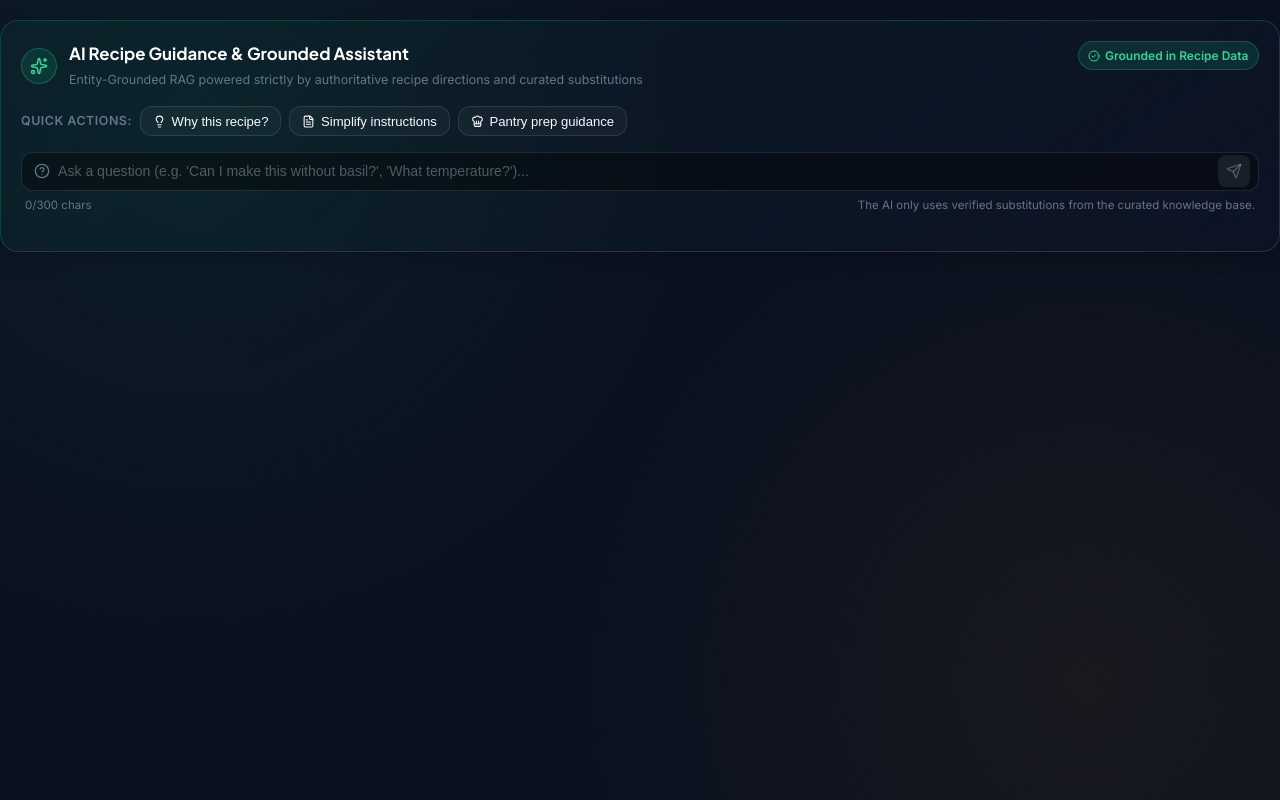
it: AiAssistantPanel Component › submits a custom question and displays answer
Replace the text in the field with placeholder "Ask a question" with "Can I substitute fresh basil?" at point(638, 171), box [58, 153, 1218, 190]
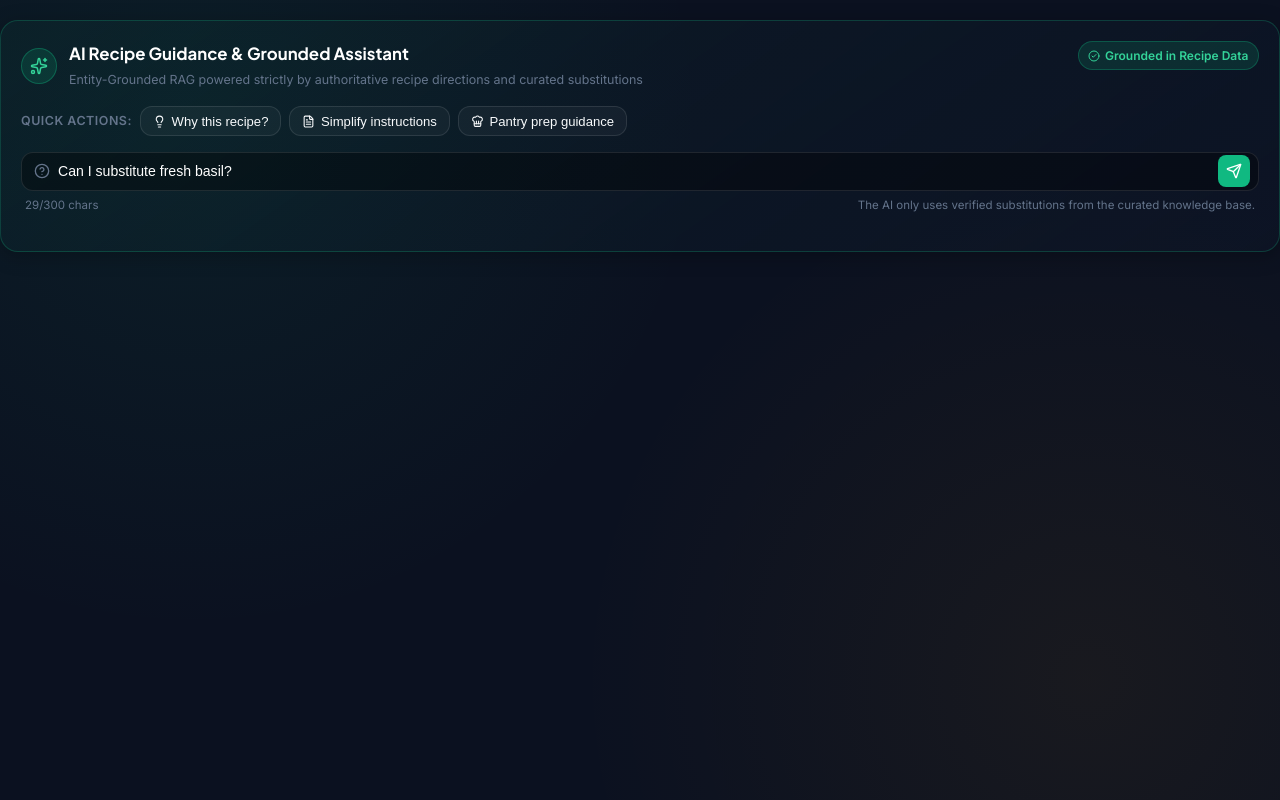
Click the button titled "Send question to AI Assistant" at point(1234, 171), box [1218, 155, 1250, 187]
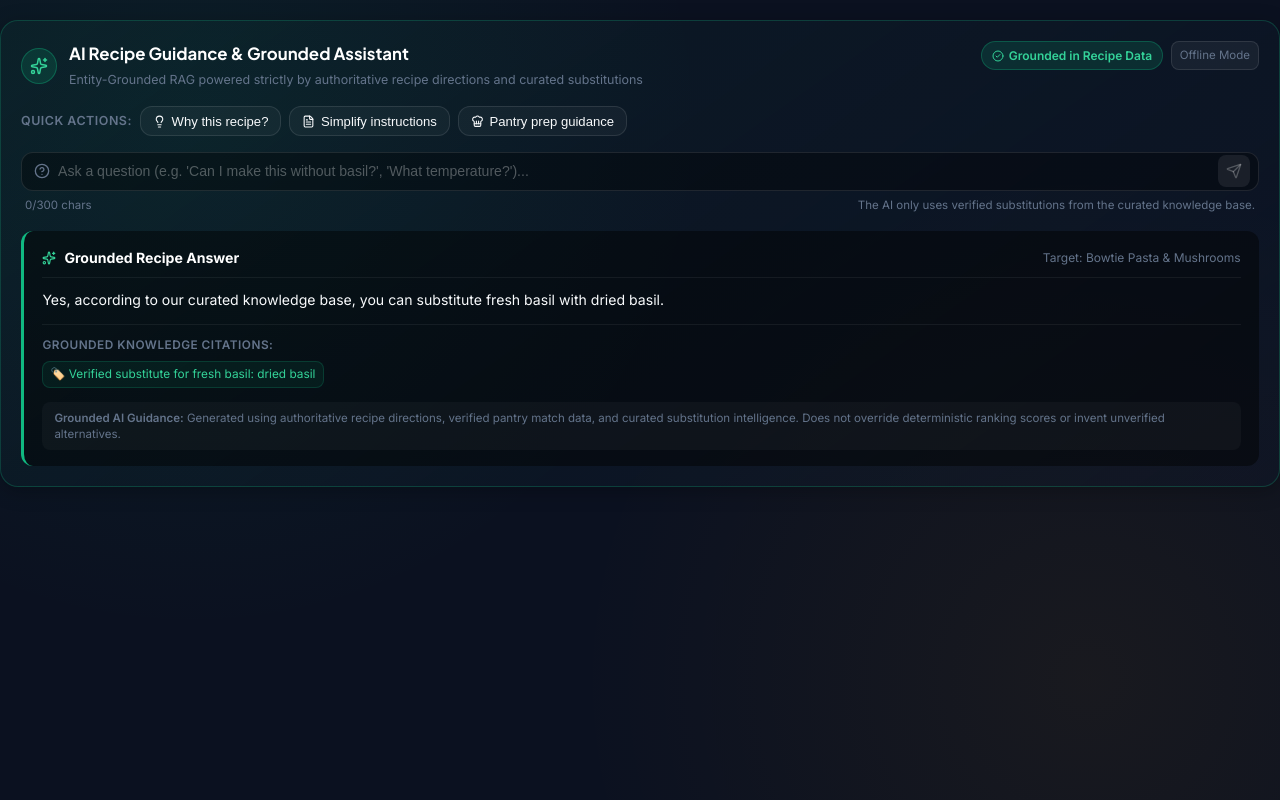
Now the text "you can substitute fresh basil with dried basil" is shown, box [42, 291, 664, 308]
Now the text "🏷️ Verified substitute for fresh basil: dried basil" is shown, box [42, 361, 324, 388]
